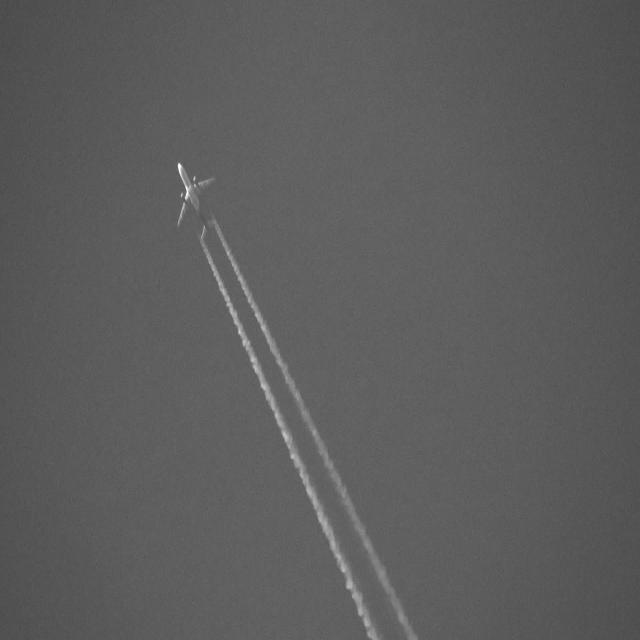aeroplane: (174, 156, 221, 251)
